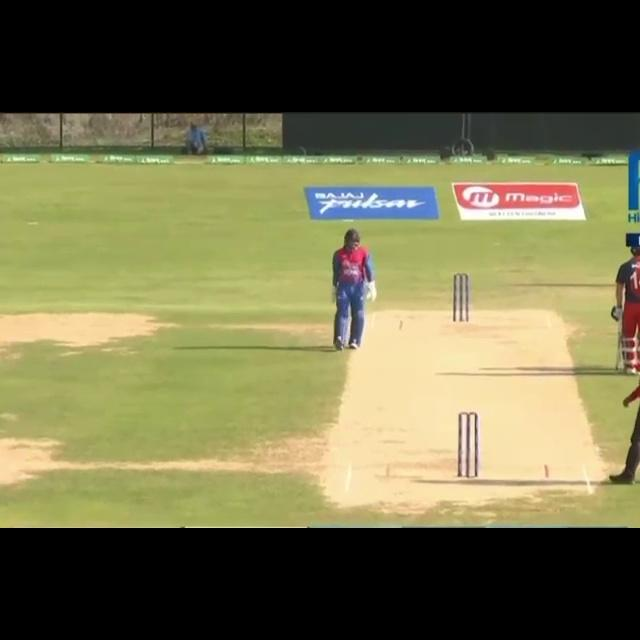umpire: (611, 316, 640, 495)
